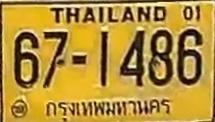1: (100, 30, 108, 86)
4: (119, 29, 144, 85)
6: (177, 28, 202, 84), (14, 31, 38, 88)
7: (43, 30, 68, 88)
8: (148, 29, 172, 85)
BKK: (41, 94, 173, 119)
